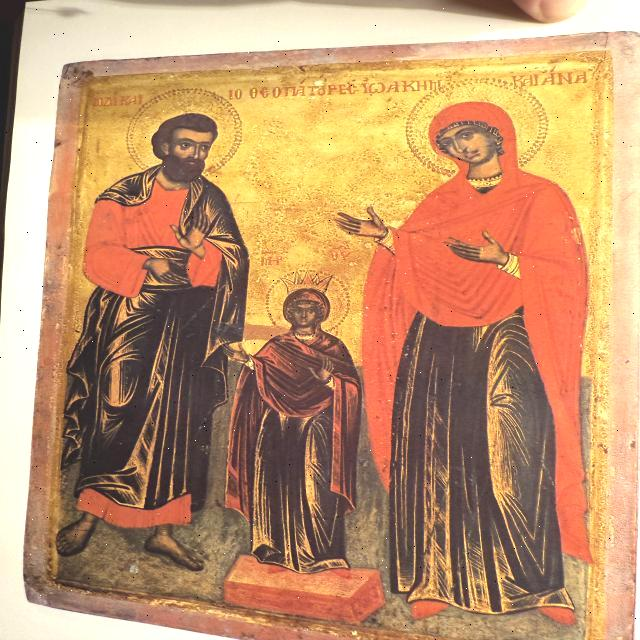aura: (407, 79, 549, 173), (126, 88, 244, 178), (263, 268, 356, 341)
crown: (275, 267, 337, 297)
mary: (227, 258, 373, 572)
saint: (369, 75, 599, 633), (70, 84, 240, 571)
